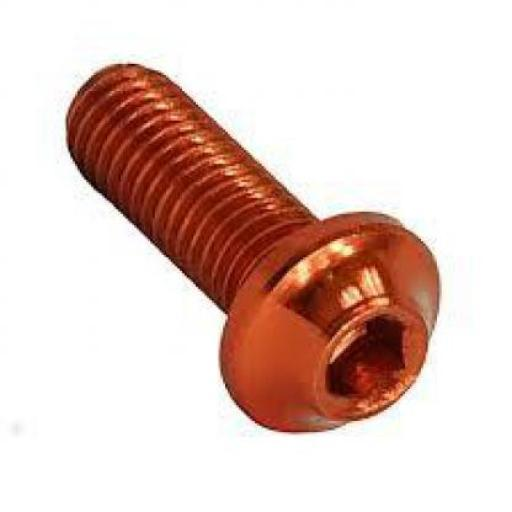Bolt: (64, 61, 442, 435)
